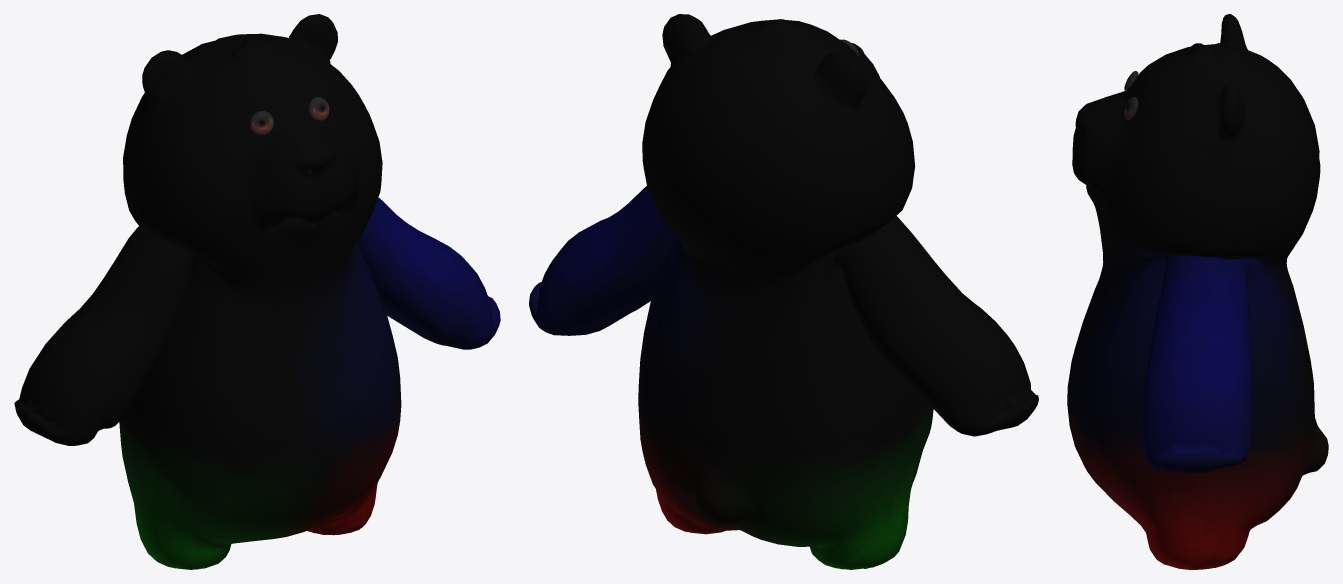
The model's file is bear_shell_v3.glb.
The picture shows the model from 3 angles, left to right: view 1: azimuth 30°, elevation 25°; view 2: azimuth 150°, elevation 25°; view 3: azimuth 270°, elevation 25°; orthographic projection. The views are drawn at different scales.
Parts seen in each view (by area): view 1: BoundedShellGroom, Body, BrownBear_Normal; view 2: BoundedShellGroom, Body; view 3: BoundedShellGroom, Body, BrownBear_Normal.
Part boxes in pixels (left/top/right/bottom): BoundedShellGroom: left=14, top=14, right=500, bottom=569; Body: left=21, top=19, right=492, bottom=554; BrownBear_Normal: left=249, top=97, right=329, bottom=135; BoundedShellGroom: left=529, top=14, right=1038, bottom=569; Body: left=532, top=15, right=1032, bottom=557; BoundedShellGroom: left=1067, top=14, right=1328, bottom=569; Body: left=1076, top=17, right=1320, bottom=533; BrownBear_Normal: left=1124, top=71, right=1138, bottom=119.
Bounding box in the file's own units: 2.43 × 2.45 × 1.22.
Materials: 3 (3 with a texture image).
